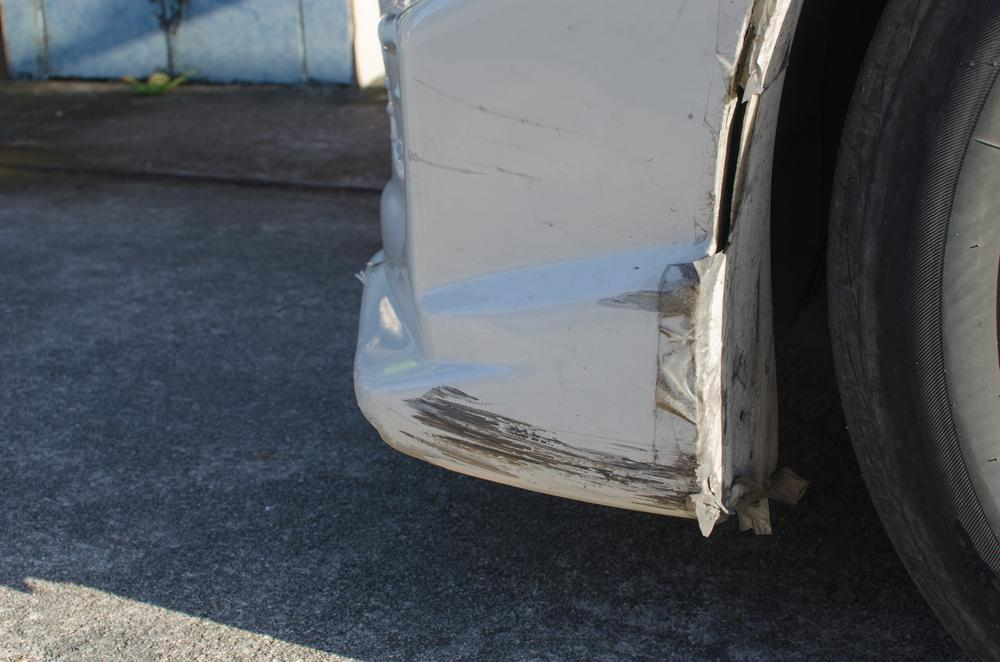scratch: (393, 383, 702, 510)
